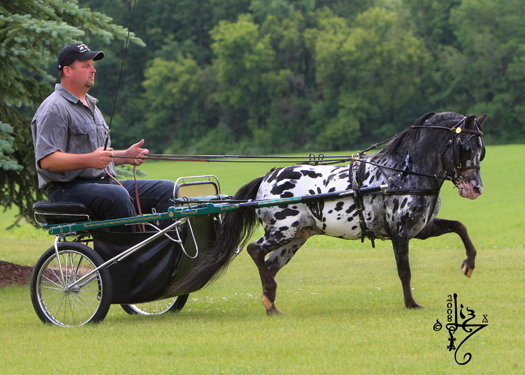horse: (231, 112, 488, 314)
